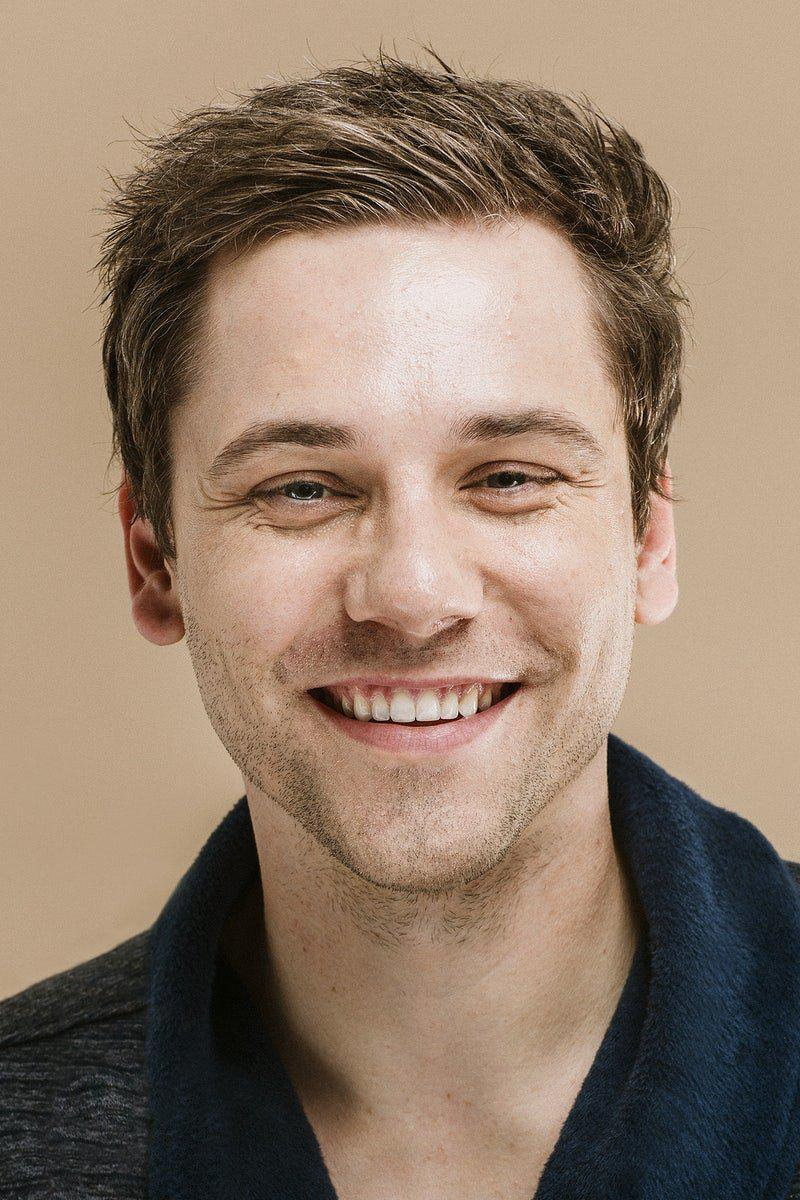Sober: (198, 243, 624, 858)
